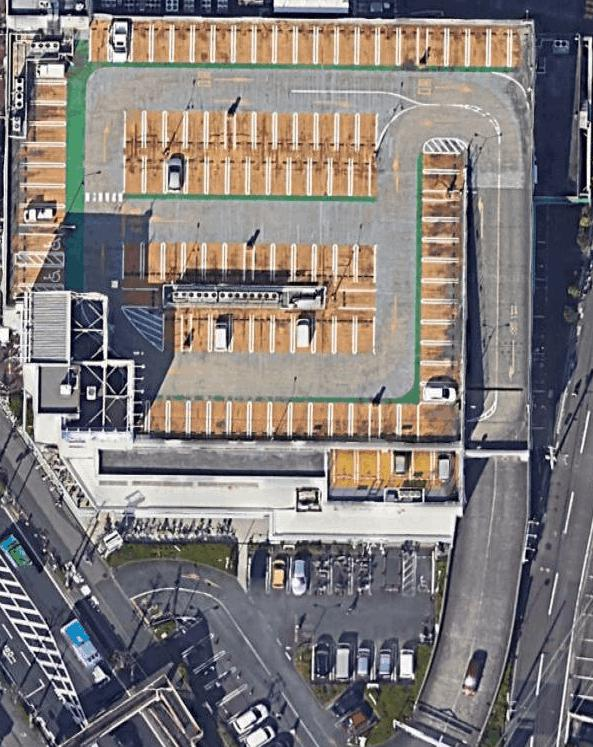parkingspot: (88, 15, 534, 74), (167, 615, 295, 747), (414, 152, 468, 406), (119, 239, 379, 291), (144, 394, 419, 443), (120, 152, 378, 202), (121, 106, 379, 155), (14, 60, 71, 255), (162, 314, 377, 357), (248, 553, 372, 599), (333, 447, 459, 492), (311, 640, 417, 685), (321, 687, 382, 744), (13, 265, 68, 288), (412, 553, 437, 599)
